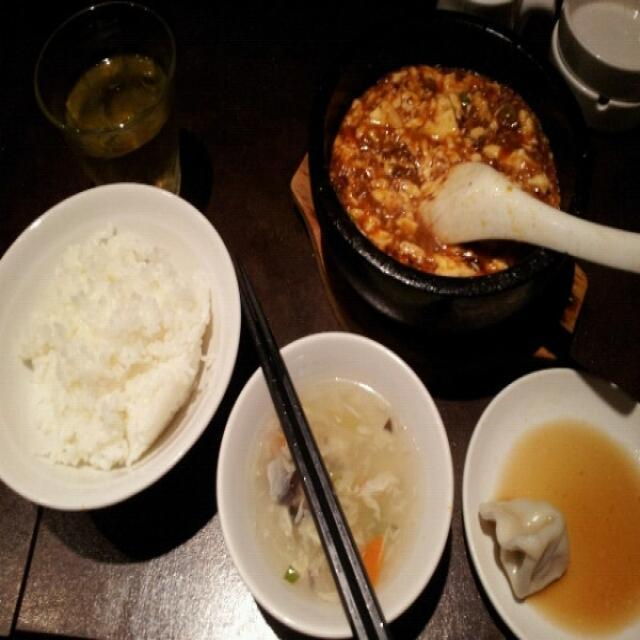Rice: (19, 204, 213, 476)
